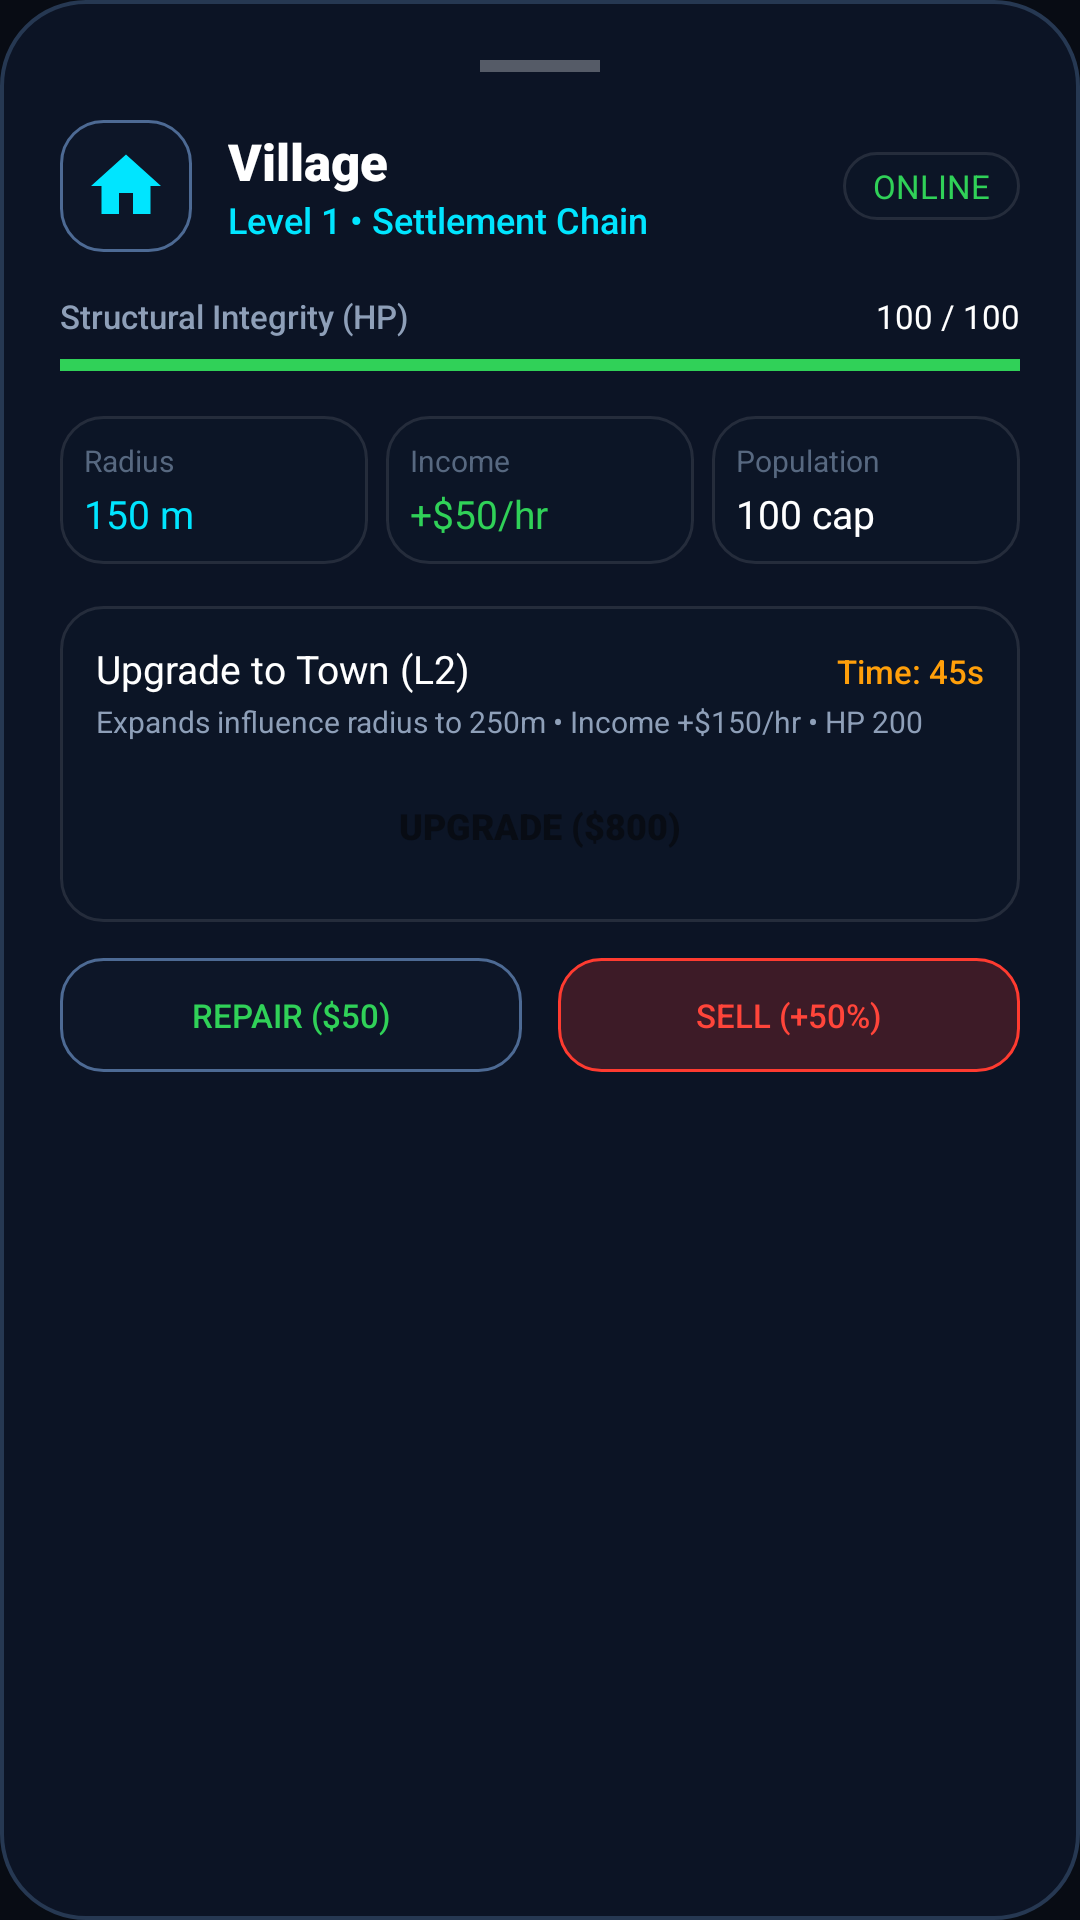

Point at icon controls on the screen. Image size 1080 x 1920, points as point (x, y).
Building Icon: point (126, 186)
